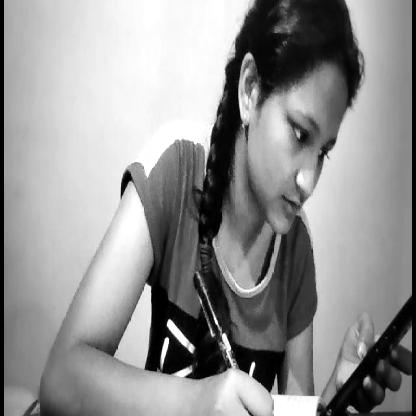Distracted: (219, 0, 360, 241)
